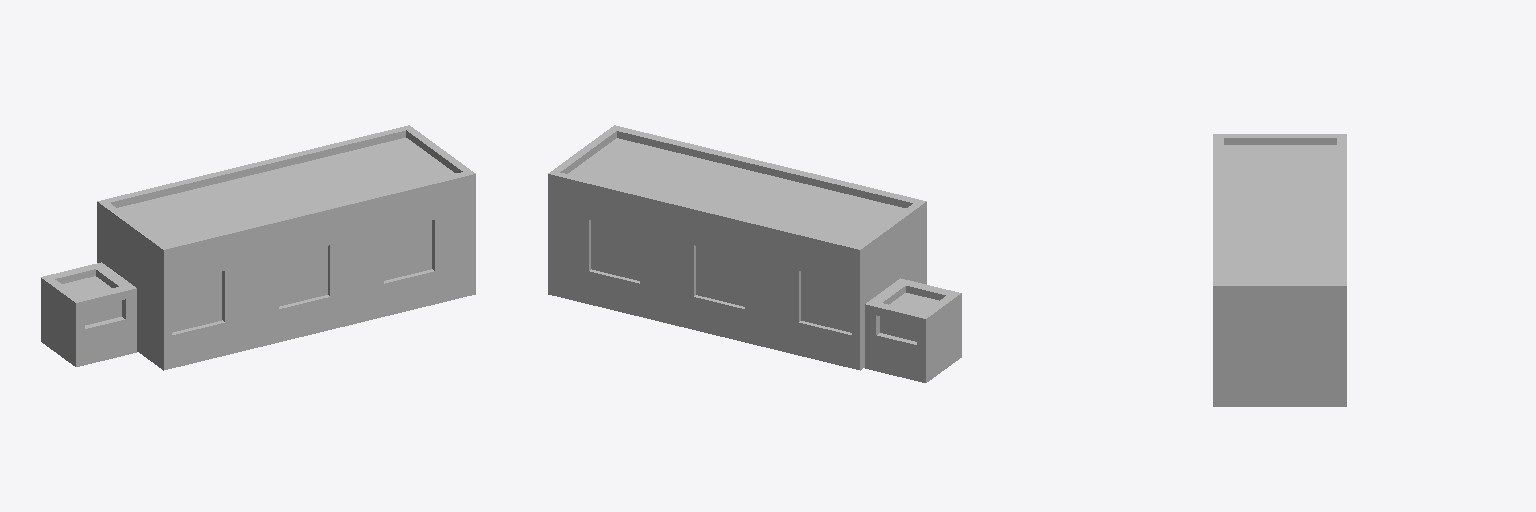
Rendered from building.obj.
3 views of the same model, side by side, from view 1: azimuth 30°, elevation 25°; view 2: azimuth 150°, elevation 25°; view 3: azimuth 270°, elevation 25° (orthographic).
Parts seen in each view (by area): view 1: Cube_Cube.001; view 2: Cube_Cube.001; view 3: Cube_Cube.001.
Boxes of the visible parts, x1=… form: Cube_Cube.001: x1=41, y1=125, x2=475, y2=370; Cube_Cube.001: x1=548, y1=125, x2=961, y2=382; Cube_Cube.001: x1=1213, y1=134, x2=1346, y2=406.
Size of the model in its own units: 6.49 by 2.02 by 2.